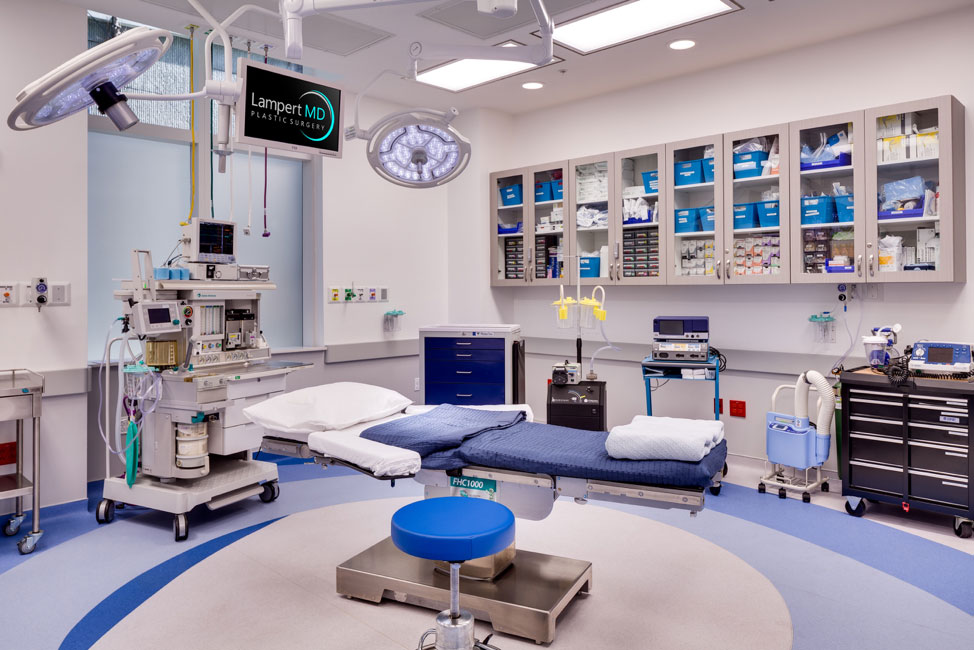bedside_monitor: (230, 55, 347, 157), (183, 218, 238, 264), (130, 298, 186, 338)
cabinet: (488, 147, 957, 291)
chair: (388, 497, 515, 650)
electrosurgical_unit: (652, 316, 710, 360)
handle: (857, 255, 863, 277), (869, 255, 875, 277), (716, 261, 722, 280), (726, 261, 731, 280), (616, 264, 621, 281), (609, 264, 613, 281), (524, 267, 528, 282), (459, 393, 473, 397), (458, 352, 472, 356), (457, 342, 471, 346), (529, 268, 533, 282)
medical_drawer: (833, 363, 974, 539), (419, 324, 528, 406)
operating_bed: (258, 384, 724, 647)
surgical_light: (7, 25, 173, 133), (363, 107, 471, 189)
utility_cart: (642, 357, 730, 476), (1, 370, 44, 554)
